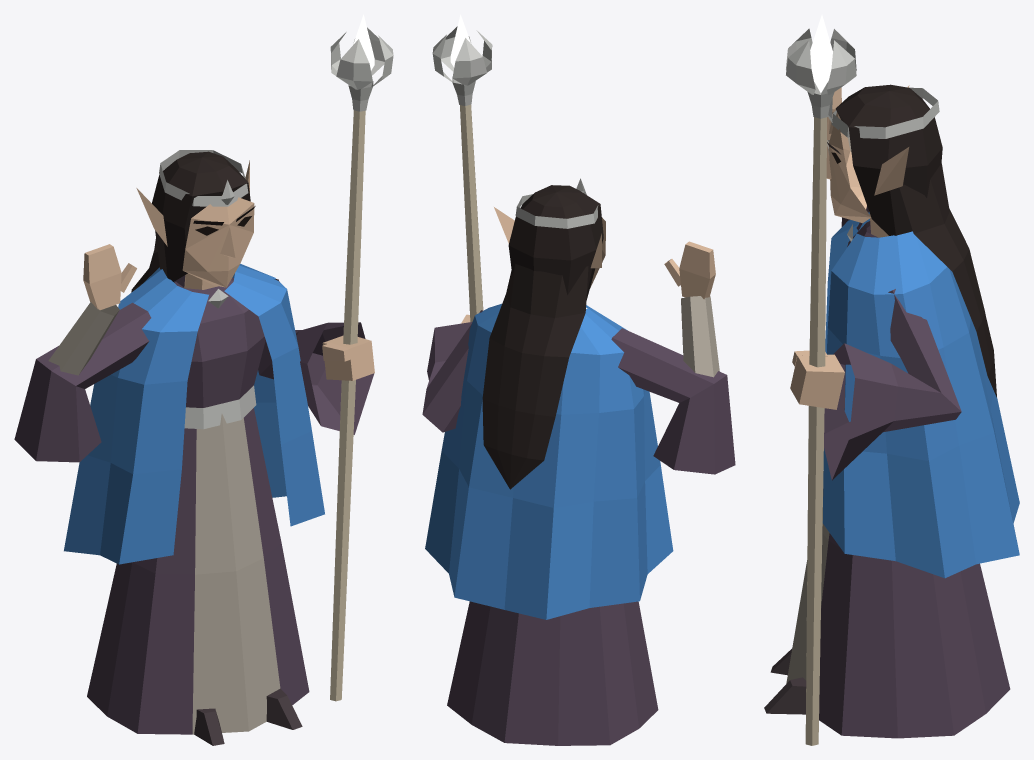
The model's file is elrond.glb.
3 views of the same model, side by side, from view 1: azimuth 30°, elevation 25°; view 2: azimuth 150°, elevation 25°; view 3: azimuth 270°, elevation 25° (orthographic). The views are drawn at different scales.
Visible parts, largest first — view 1: elrond; view 2: elrond; view 3: elrond.
Part boxes in pixels (x1=…): elrond: x1=14, y1=14, x2=393, y2=745; elrond: x1=422, y1=14, x2=735, y2=745; elrond: x1=764, y1=14, x2=1019, y2=745.
Size of the model in its own units: 0.9716 by 1.87 by 0.5821.
